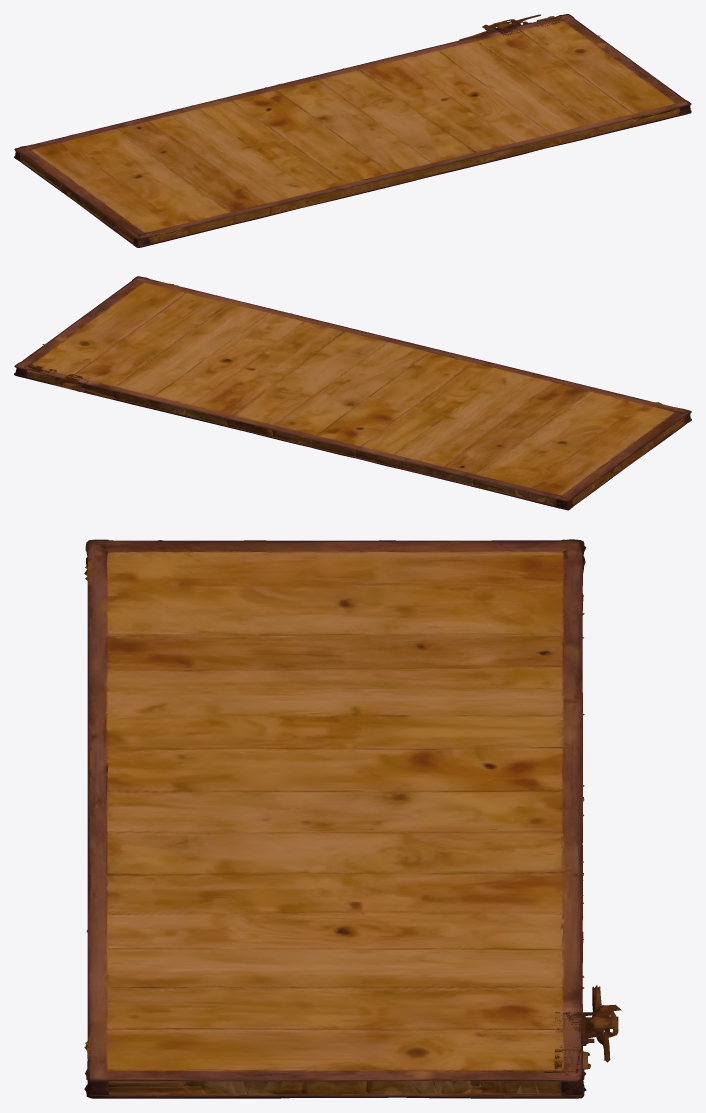
File: ground_platform.glb
3 views of the same model, one above another, from view 1: azimuth 30°, elevation 25°; view 2: azimuth 150°, elevation 25°; view 3: azimuth 270°, elevation 25° (orthographic). The views are drawn at different scales.
Visible parts, largest first — view 1: tripo_node_988384b4-4b60-4d09-9f6d-7f9265e472a5; view 2: tripo_node_988384b4-4b60-4d09-9f6d-7f9265e472a5; view 3: tripo_node_988384b4-4b60-4d09-9f6d-7f9265e472a5.
Boxes of the visible parts, box(x1,y1,x2,y2) form: tripo_node_988384b4-4b60-4d09-9f6d-7f9265e472a5: box(14, 14, 691, 247); tripo_node_988384b4-4b60-4d09-9f6d-7f9265e472a5: box(14, 276, 691, 510); tripo_node_988384b4-4b60-4d09-9f6d-7f9265e472a5: box(84, 539, 621, 1098).
Bounding box in the file's own units: 1.7 × 0.028 × 0.7085.
1 material, 1 textured.
